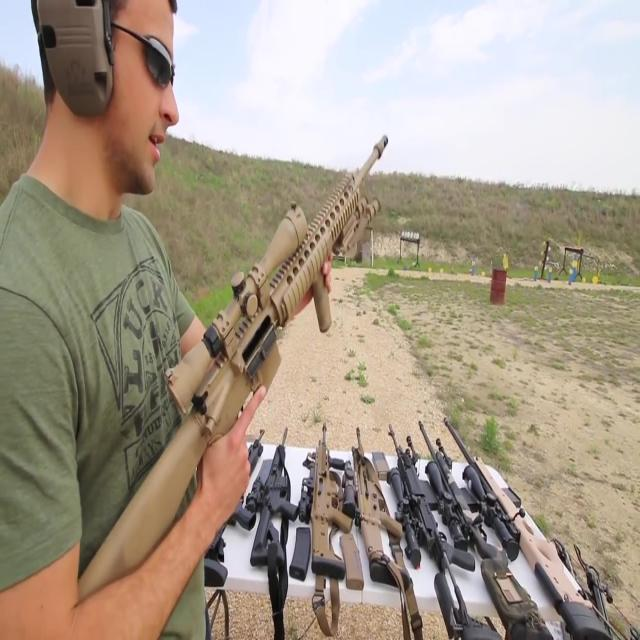Weapon: (47, 42, 390, 626), (151, 330, 639, 640)
